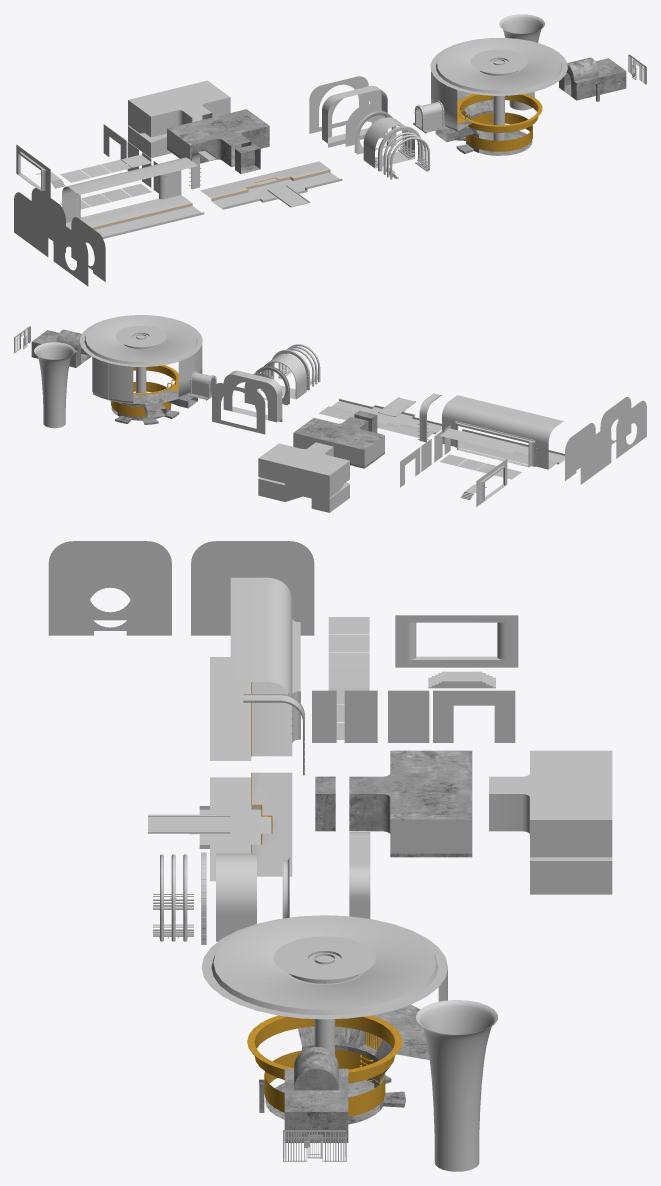
Rendered from Sewerage_Module_3.fbx.
3 renders of one model, top to bottom at view 1: azimuth 30°, elevation 25°; view 2: azimuth 150°, elevation 25°; view 3: azimuth 270°, elevation 25°, orthographic. The views are drawn at different scales.
Visible parts, largest first — view 1: SW_3_Drain_Room_Ceiling, SW_3_Room_2, SW_3_Room_1, SW_3_Drain_Room_Support_Rings, SW_3_Tile_Long_Wall_Half_Arc, SW_3_Drain_Room_Small_Room, SW_3_Tile_Long_2_Ditch, SW_3_Arc_Cap, SW_3_Tile_Long_1_Ditch, SW_3_Tunnel_Cap_2, SW_3_Arc_Cap_Pipe, SW_3_Tile_Long_2 (+22 smaller); view 2: SW_3_Drain_Room_Ceiling, SW_3_Room_2, SW_3_Tile_Long_Wall_Half_Arc, SW_3_Room_1, SW_3_Water_Fall, SW_3_Drain_Room_Wall, SW_3_Tunnel_Cap_2, SW_3_Arc_Cap, SW_3_Tunnel_Cap, SW_3_Arc_Cap_Pipe, SW_3_Tile_Long_2_Ditch, SW_3_Drain_Room_Support_Rings (+21 smaller); view 3: SW_3_Drain_Room_Ceiling, SW_3_Room_2, SW_3_Room_1, SW_3_Water_Fall, SW_3_Arc_Cap_Pipe_Drainer, SW_3_Tile_Long_Wall_Half_Arc, SW_3_Arc_Cap_Drainer, SW_3_Drain_Room_Small_Room, SW_3_Drain_Room_Support_Rings, SW_3_Corridor_Side_Room_Entrance, SW_3_Tile_Long_2_Ditch, SW_3_Tile_Long_1_Ditch (+18 smaller).
Part boxes in pixels (x1=…): SW_3_Drain_Room_Ceiling: x1=430, y1=38, x2=567, y2=95; SW_3_Room_2: x1=128, y1=80, x2=230, y2=158; SW_3_Room_1: x1=167, y1=109, x2=269, y2=166; SW_3_Drain_Room_Support_Rings: x1=457, y1=93, x2=542, y2=151; SW_3_Tile_Long_Wall_Half_Arc: x1=62, y1=157, x2=197, y2=222; SW_3_Drain_Room_Small_Room: x1=559, y1=57, x2=626, y2=100; SW_3_Tile_Long_2_Ditch: x1=211, y1=170, x2=342, y2=209; SW_3_Arc_Cap: x1=14, y1=192, x2=48, y2=256; SW_3_Tile_Long_1_Ditch: x1=85, y1=204, x2=204, y2=242; SW_3_Tunnel_Cap_2: x1=322, y1=85, x2=387, y2=147; SW_3_Arc_Cap_Pipe: x1=53, y1=221, x2=88, y2=286; SW_3_Tile_Long_2: x1=200, y1=161, x2=330, y2=199; SW_3_Drain_Room_Ceiling: x1=79, y1=315, x2=202, y2=366; SW_3_Room_2: x1=258, y1=442, x2=349, y2=512; SW_3_Tile_Long_Wall_Half_Arc: x1=442, y1=395, x2=563, y2=469; SW_3_Room_1: x1=293, y1=417, x2=384, y2=468; SW_3_Water_Fall: x1=34, y1=342, x2=74, y2=428; SW_3_Drain_Room_Wall: x1=92, y1=357, x2=133, y2=403; SW_3_Tunnel_Cap_2: x1=223, y1=370, x2=282, y2=422; SW_3_Arc_Cap: x1=580, y1=426, x2=611, y2=484; SW_3_Tunnel_Cap: x1=212, y1=383, x2=265, y2=434; SW_3_Arc_Cap_Pipe: x1=616, y1=400, x2=646, y2=458; SW_3_Tile_Long_2_Ditch: x1=331, y1=399, x2=441, y2=434; SW_3_Drain_Room_Support_Rings: x1=111, y1=365, x2=178, y2=416; SW_3_Drain_Room_Ceiling: x1=201, y1=915, x2=447, y2=1019; SW_3_Room_2: x1=489, y1=750, x2=612, y2=894; SW_3_Room_1: x1=349, y1=750, x2=472, y2=857; SW_3_Water_Fall: x1=415, y1=1000, x2=497, y2=1171; SW_3_Arc_Cap_Pipe_Drainer: x1=48, y1=556, x2=171, y2=635; SW_3_Tile_Long_Wall_Half_Arc: x1=230, y1=577, x2=292, y2=696; SW_3_Arc_Cap_Drainer: x1=191, y1=556, x2=314, y2=635; SW_3_Drain_Room_Small_Room: x1=284, y1=1047, x2=348, y2=1142; SW_3_Drain_Room_Support_Rings: x1=247, y1=1015, x2=402, y2=1117; SW_3_Corridor_Side_Room_Entrance: x1=395, y1=615, x2=518, y2=667; SW_3_Tile_Long_2_Ditch: x1=190, y1=777, x2=271, y2=881; SW_3_Tile_Long_1_Ditch: x1=210, y1=657, x2=251, y2=760.
Bounding box in the file's own units: 12555 × 1633 × 5487.
